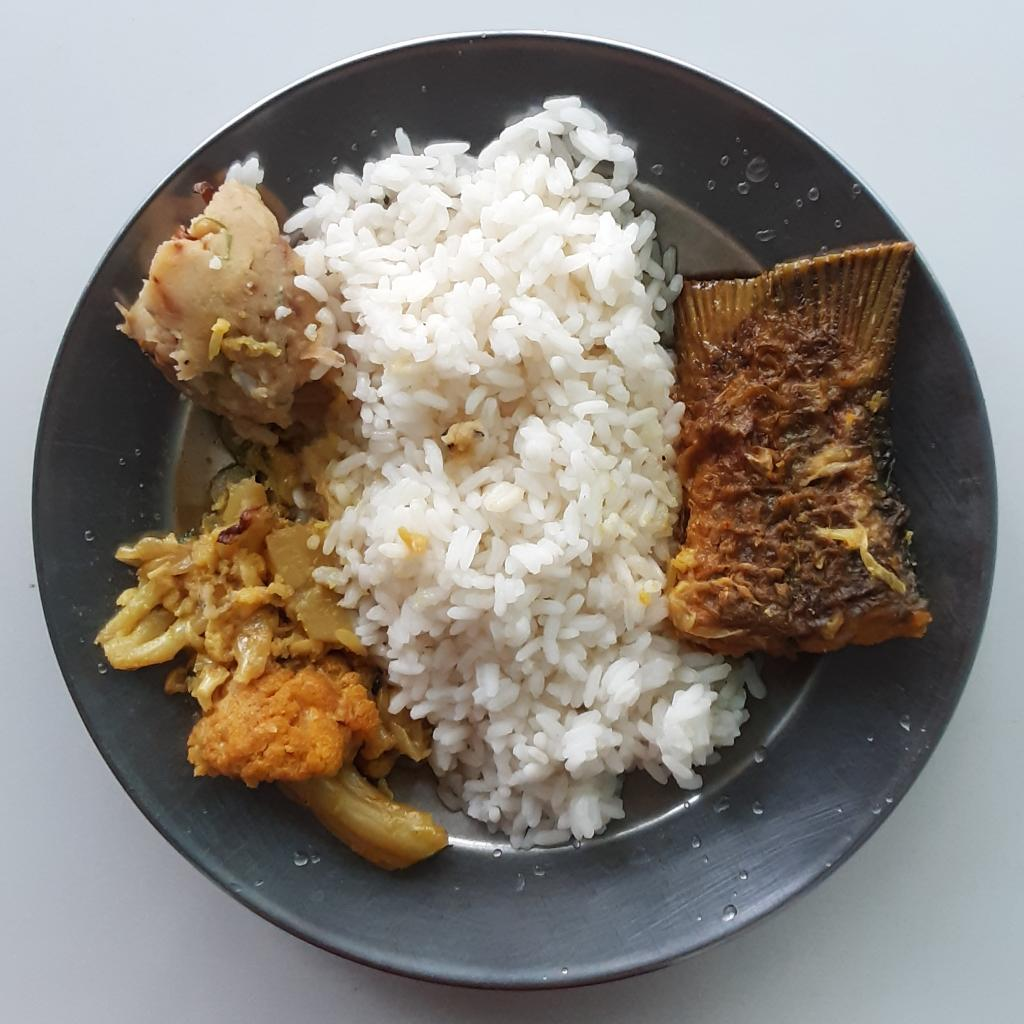cauliflower: (92, 458, 448, 873)
fish: (666, 243, 934, 657)
potato-mashed: (124, 177, 313, 451)
rice: (256, 90, 762, 846)
